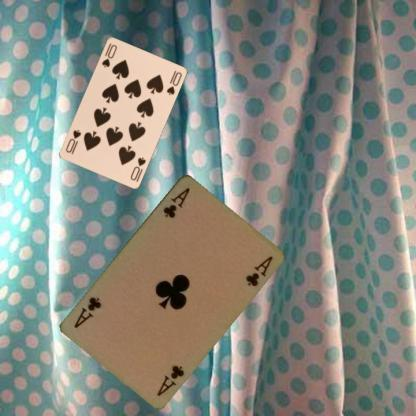10s: (99, 40, 118, 69), (128, 154, 146, 182)
Ac: (154, 362, 186, 397), (160, 184, 191, 219)
